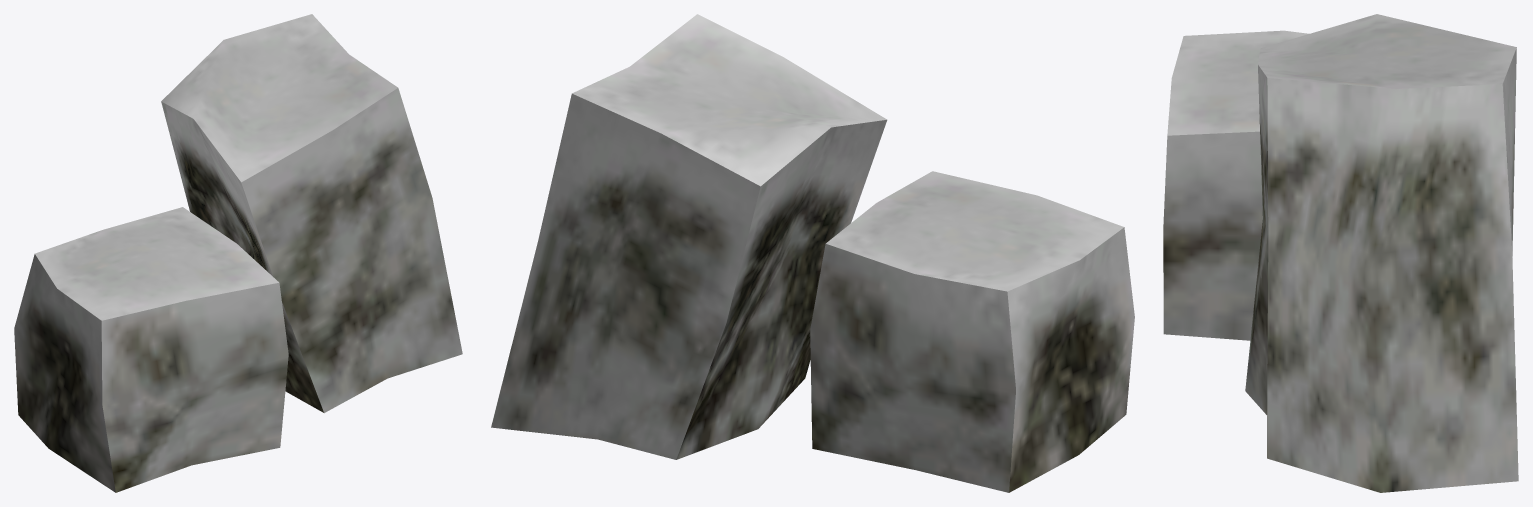
Rendered from ob-bigstone04.fbx.
The picture shows the model from 3 angles, left to right: view 1: azimuth 30°, elevation 25°; view 2: azimuth 150°, elevation 25°; view 3: azimuth 270°, elevation 25°; orthographic projection. The views are drawn at different scales.
Visible parts, largest first — view 1: ob-bigstone04; view 2: ob-bigstone04; view 3: ob-bigstone04.
Boxes of the visible parts, x1,y1,x2,y2 form: ob-bigstone04: [14, 14, 462, 492]; ob-bigstone04: [491, 14, 1134, 492]; ob-bigstone04: [1163, 14, 1518, 492].
Size of the model in its own units: 5.46 by 3.7 by 3.27.
